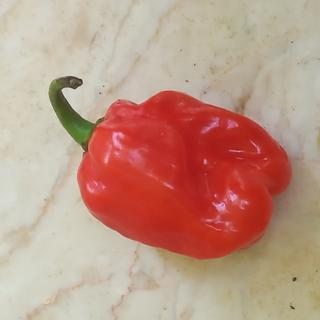Grade-A: (73, 85, 293, 261)
